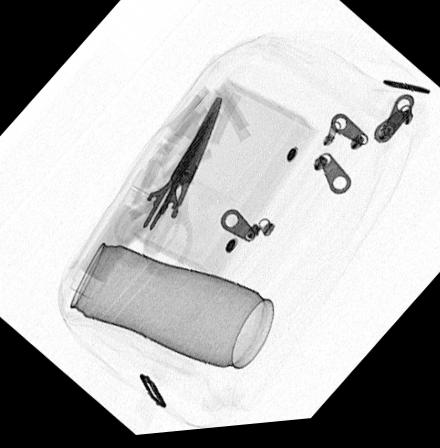Scissors: (112, 100, 220, 280)
